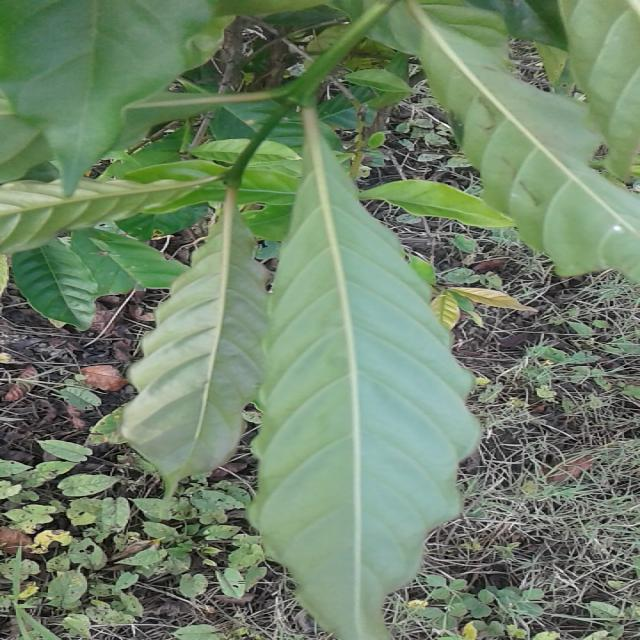Sanas: (246, 110, 481, 640)
